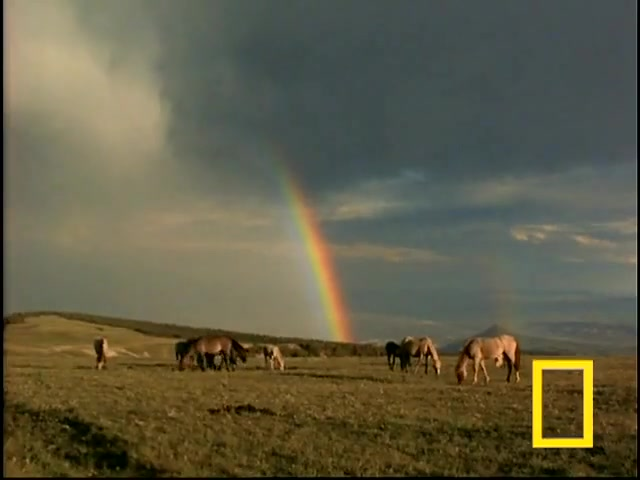horse: (454, 334, 523, 386)
